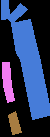parkingspot: (11, 19, 50, 119), (2, 62, 14, 102), (7, 3, 27, 23), (8, 111, 21, 134), (1, 0, 9, 19)
